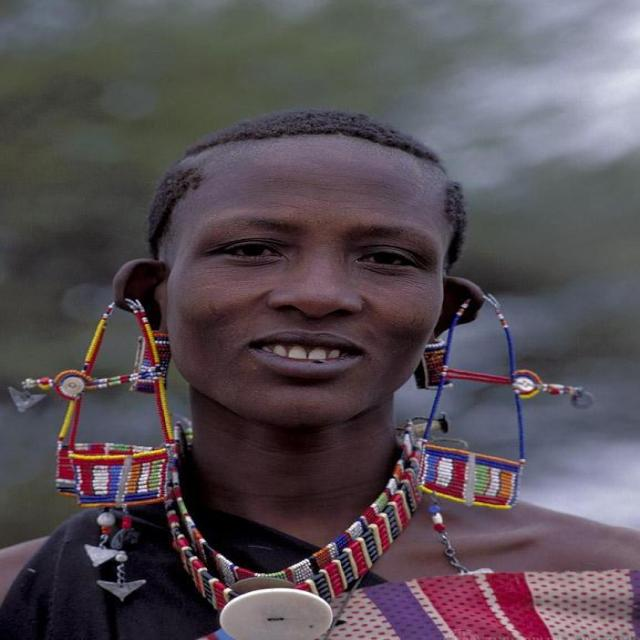no-glass: (193, 240, 426, 270)
